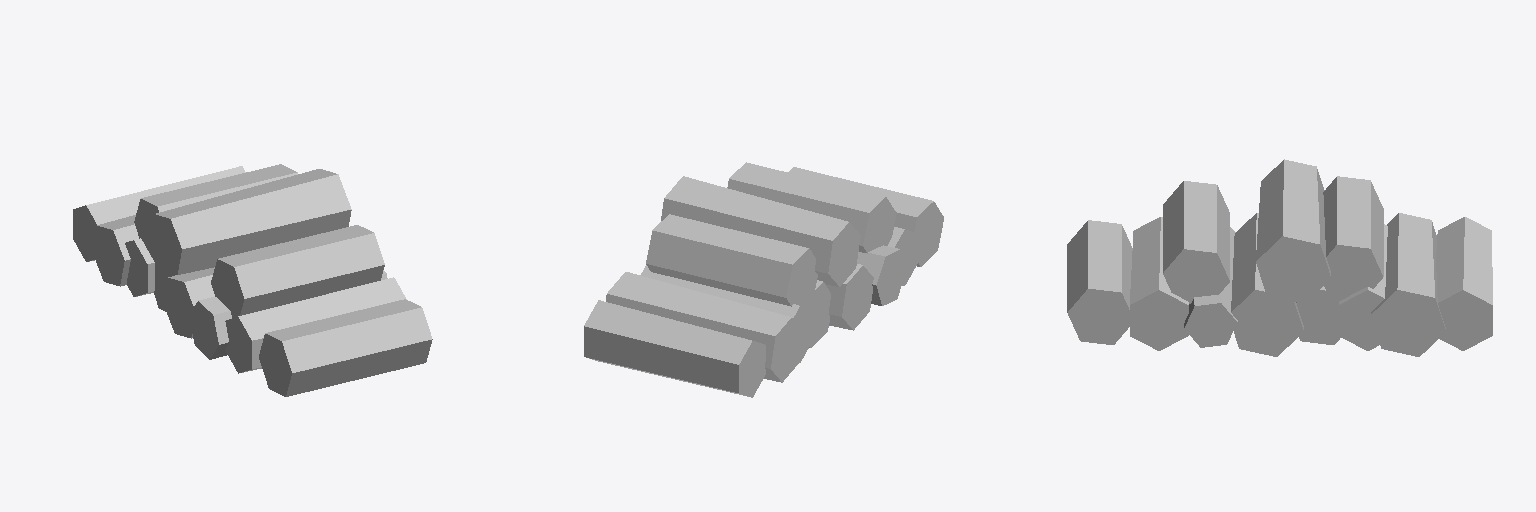
The model's file is log_003.obj.
The picture shows the model from 3 angles: view 1: azimuth 30°, elevation 25°; view 2: azimuth 150°, elevation 25°; view 3: azimuth 270°, elevation 25°; orthographic projection.
Parts seen in each view (by area): view 1: log_003; view 2: log_003; view 3: log_003.
Boxes of the visible parts, x1,y1,x2,y2 form: log_003: [73, 164, 432, 396]; log_003: [584, 162, 943, 397]; log_003: [1067, 159, 1492, 356].
Size of the model in its own units: 0.4811 by 0.3171 by 1.01.